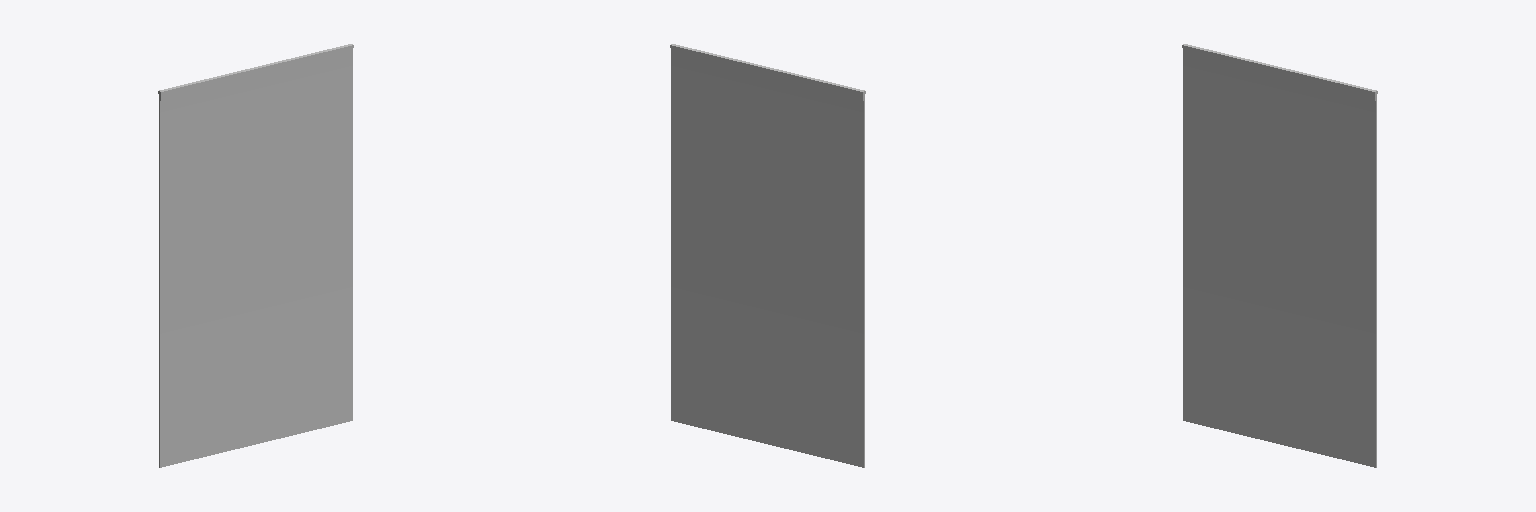
File: SpatulaBaseAndCenter.obj
3 renders of one model, left to right at view 1: azimuth 30°, elevation 25°; view 2: azimuth 150°, elevation 25°; view 3: azimuth 330°, elevation 25°, orthographic.
Parts seen in each view (by area): view 1: SpatulaBase.003; view 2: SpatulaBase.003; view 3: SpatulaBase.003.
Part boxes in pixels (x1,y1,x2,y2): SpatulaBase.003: (158, 44, 353, 467); SpatulaBase.003: (670, 44, 865, 467); SpatulaBase.003: (1182, 44, 1377, 467).
Bounding box in the file's own units: 0.0762 × 0.1419 × 0.0014.